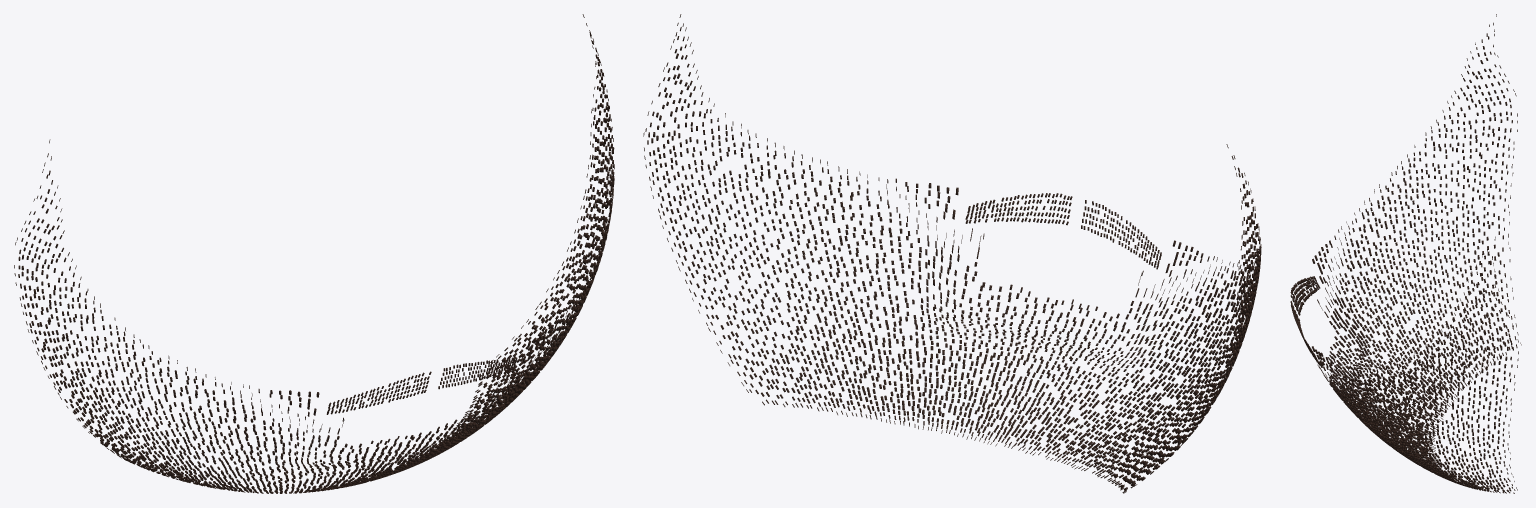
The model's file is Masculine-Masculine-groom-stubble-4918a94d.glb.
The picture shows the model from 3 angles, left to right: view 1: azimuth 30°, elevation 25°; view 2: azimuth 150°, elevation 25°; view 3: azimuth 270°, elevation 25°; orthographic projection. The views are drawn at different scales.
Parts seen in each view (by area): view 1: Groom / clean stubble184, Groom / upper lip stubble191; view 2: Groom / clean stubble184, Groom / upper lip stubble191; view 3: Groom / clean stubble184, Groom / upper lip stubble191.
Boxes of the visible parts, x1=… form: Groom / clean stubble184: x1=14, y1=14, x2=614, y2=493; Groom / upper lip stubble191: x1=326, y1=357, x2=517, y2=414; Groom / clean stubble184: x1=643, y1=14, x2=1261, y2=493; Groom / upper lip stubble191: x1=965, y1=193, x2=1161, y2=269; Groom / clean stubble184: x1=1312, y1=14, x2=1521, y2=493; Groom / upper lip stubble191: x1=1290, y1=276, x2=1320, y2=365.
Bounding box in the file's own units: 0.9541 × 0.6057 × 0.3909.
